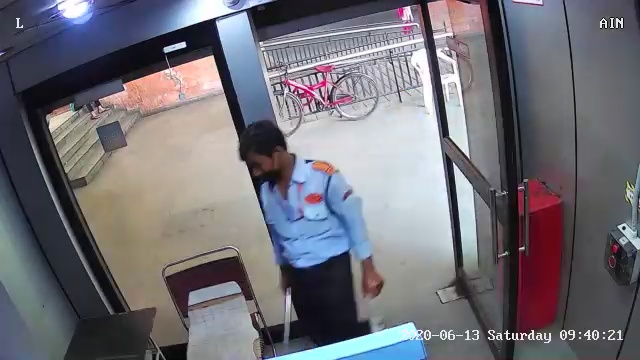open: (393, 6, 561, 358)
